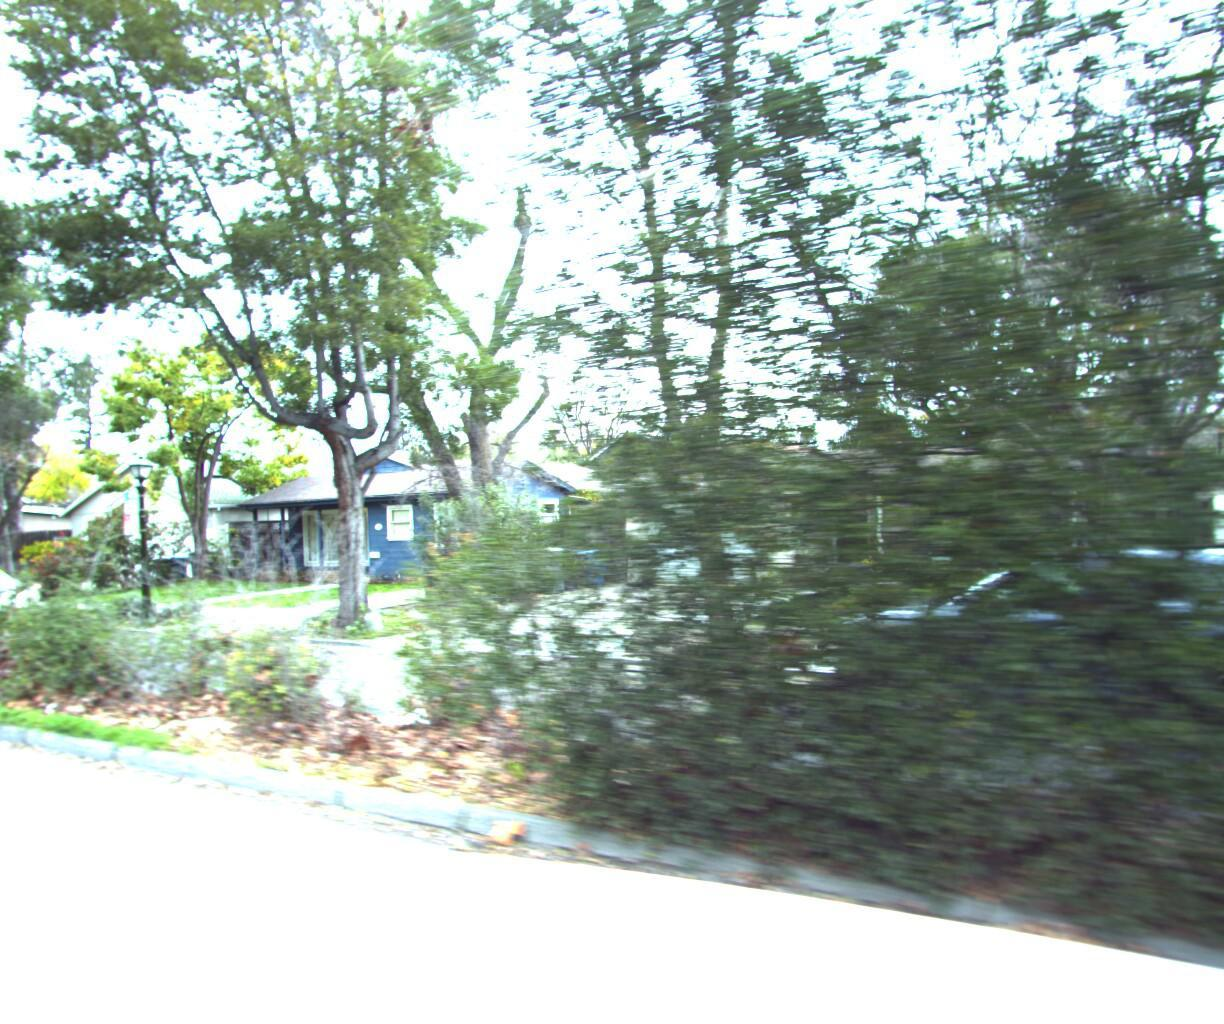car: (842, 533, 1224, 771), (0, 560, 38, 638)
